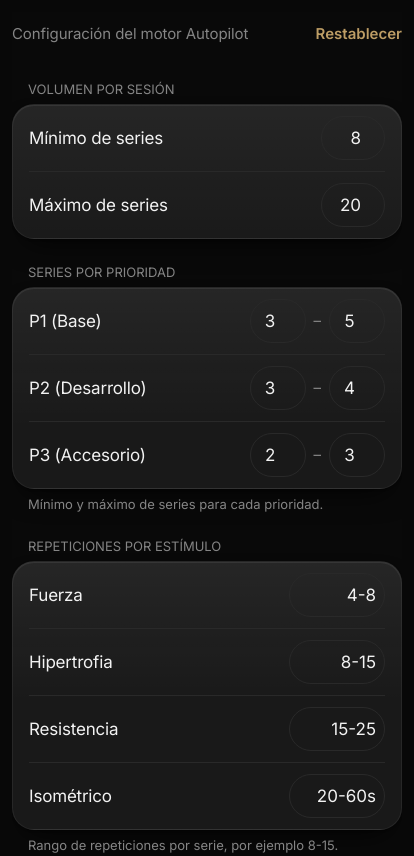
Test: TrainingRulesEditor › restores the defaults without saving them
Click the button "Restablecer" at (352, 34), box [302,12,402,56]
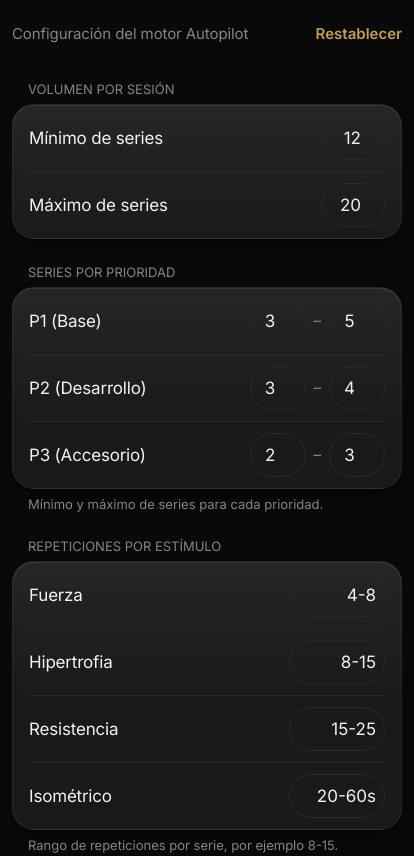
expect the number field labelled "Mínimo de series" holds "12": met, box [321,116,385,160]
